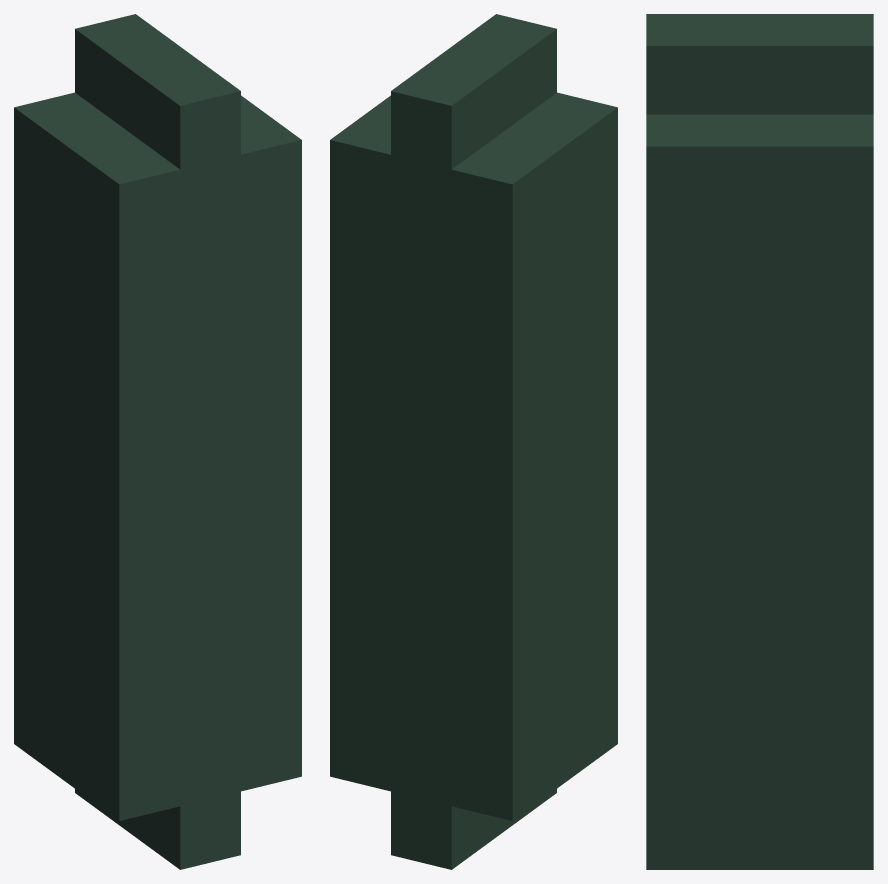
File: tunnel3.obj
3 views of the same model, side by side, from view 1: azimuth 30°, elevation 25°; view 2: azimuth 150°, elevation 25°; view 3: azimuth 270°, elevation 25° (orthographic). The views are drawn at different scales.
Visible parts, largest first — view 1: tunnel3; view 2: tunnel3; view 3: tunnel3.
Boxes of the visible parts, x1,y1,x2,y2 form: tunnel3: [14, 14, 301, 869]; tunnel3: [330, 14, 617, 869]; tunnel3: [646, 14, 873, 869].
Bounding box in the file's own units: 3 × 12 × 3.
1 material, 1 textured.
